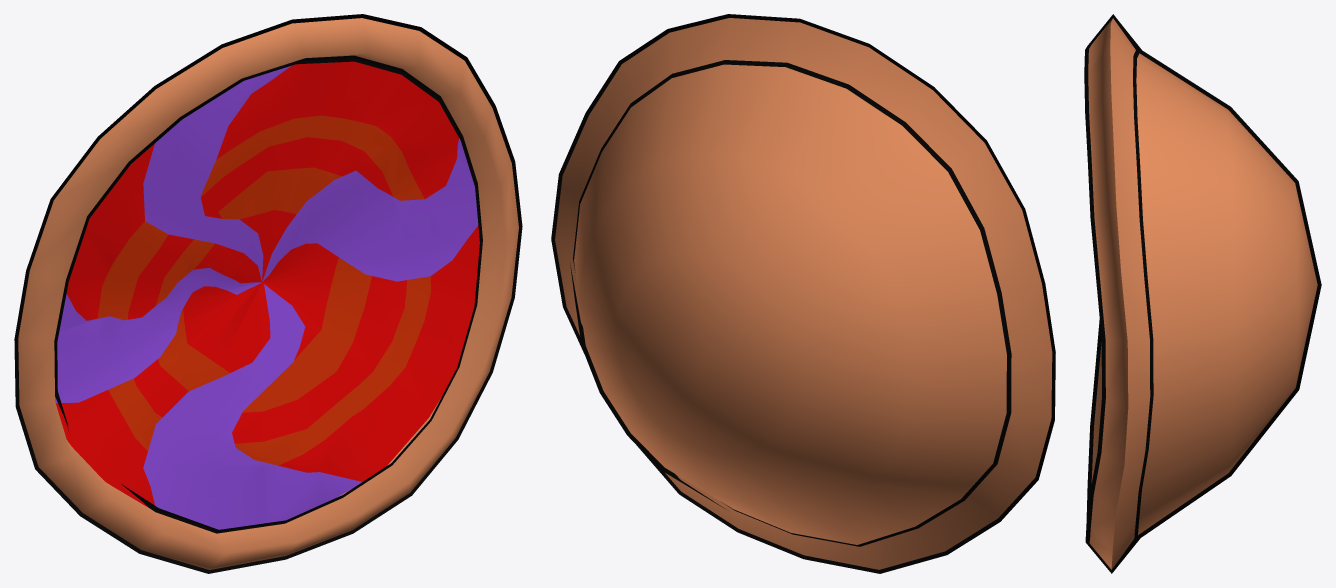
Rendered from Portal2.fbx.
3 views of the same model, side by side, from view 1: azimuth 30°, elevation 25°; view 2: azimuth 150°, elevation 25°; view 3: azimuth 270°, elevation 25° (orthographic). The views are drawn at different scales.
Parts seen in each view (by area): view 1: Portal, Pizza; view 2: Pizza; view 3: Pizza.
Boxes of the visible parts, x1,y1,x2,y2 form: Portal: (55, 61, 479, 529); Pizza: (14, 14, 522, 573); Pizza: (551, 14, 1055, 573); Pizza: (1084, 14, 1321, 573).
Size of the model in its own units: 2397 by 2439 by 1036.
